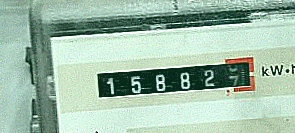1: (103, 74, 116, 94)
2: (202, 67, 215, 86)
5: (128, 73, 141, 93)
7: (227, 72, 239, 87)
8: (153, 70, 166, 92), (178, 69, 191, 91)
screen: (87, 50, 265, 106)
